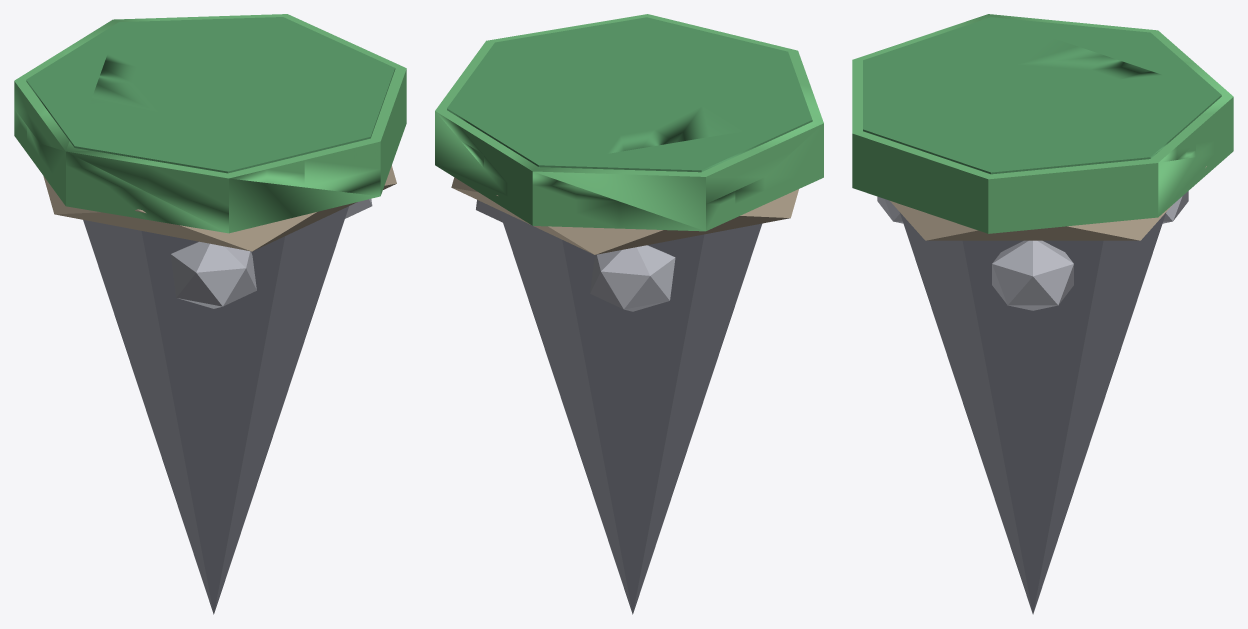
Rendered from island.glb.
3 views of the same model, side by side, from view 1: azimuth 30°, elevation 25°; view 2: azimuth 150°, elevation 25°; view 3: azimuth 270°, elevation 25° (orthographic).
Parts seen in each view (by area): view 1: IslandTop; view 2: IslandTop; view 3: IslandTop.
Boxes of the visible parts, x1,y1,x2,y2 form: IslandTop: (14,14,406,614); IslandTop: (435,14,823,614); IslandTop: (852,14,1233,614).
Size of the model in its own units: 1.95 by 2.86 by 1.9.
